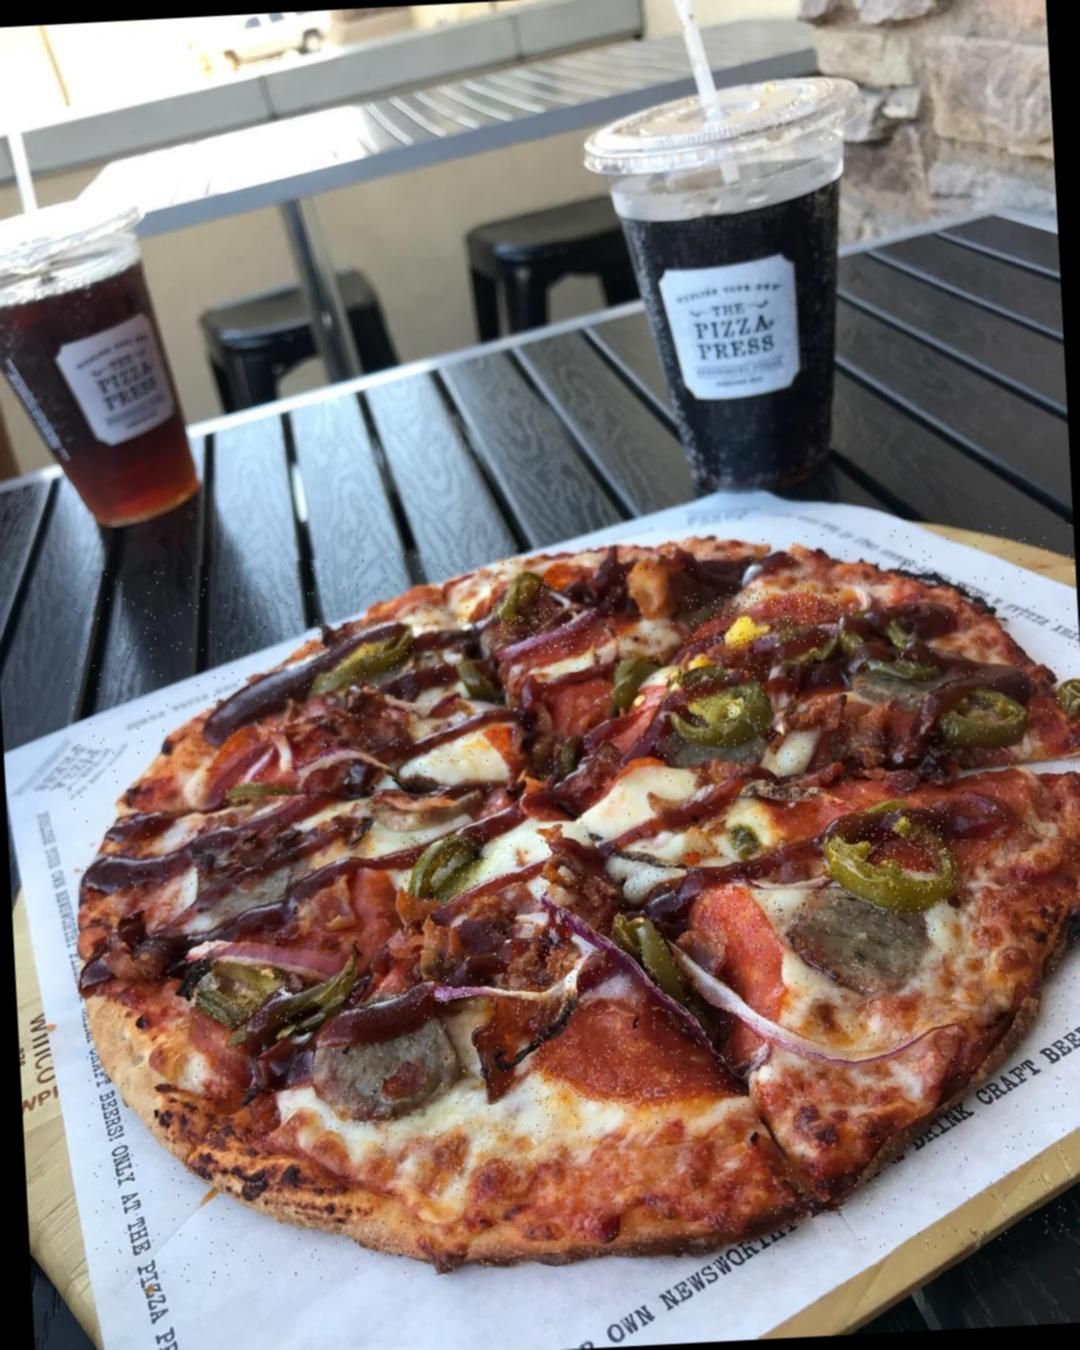Onion: (670, 929, 934, 1080), (544, 889, 705, 1048), (264, 722, 400, 786), (409, 970, 594, 1011), (498, 610, 597, 657)
Pepperoni: (524, 865, 792, 1108), (212, 865, 404, 989), (530, 668, 682, 770), (683, 586, 844, 648)
Peppers: (862, 655, 1030, 753), (819, 808, 961, 920), (610, 911, 694, 1022), (305, 621, 414, 703), (668, 663, 774, 746), (189, 952, 291, 1028), (402, 832, 491, 903), (491, 574, 552, 624)
Pizza: (60, 520, 1080, 1293)
